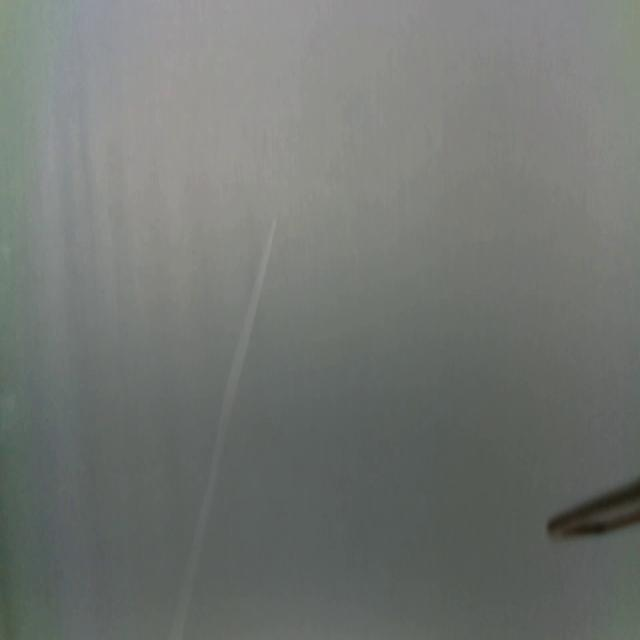crease: (173, 220, 278, 638)
